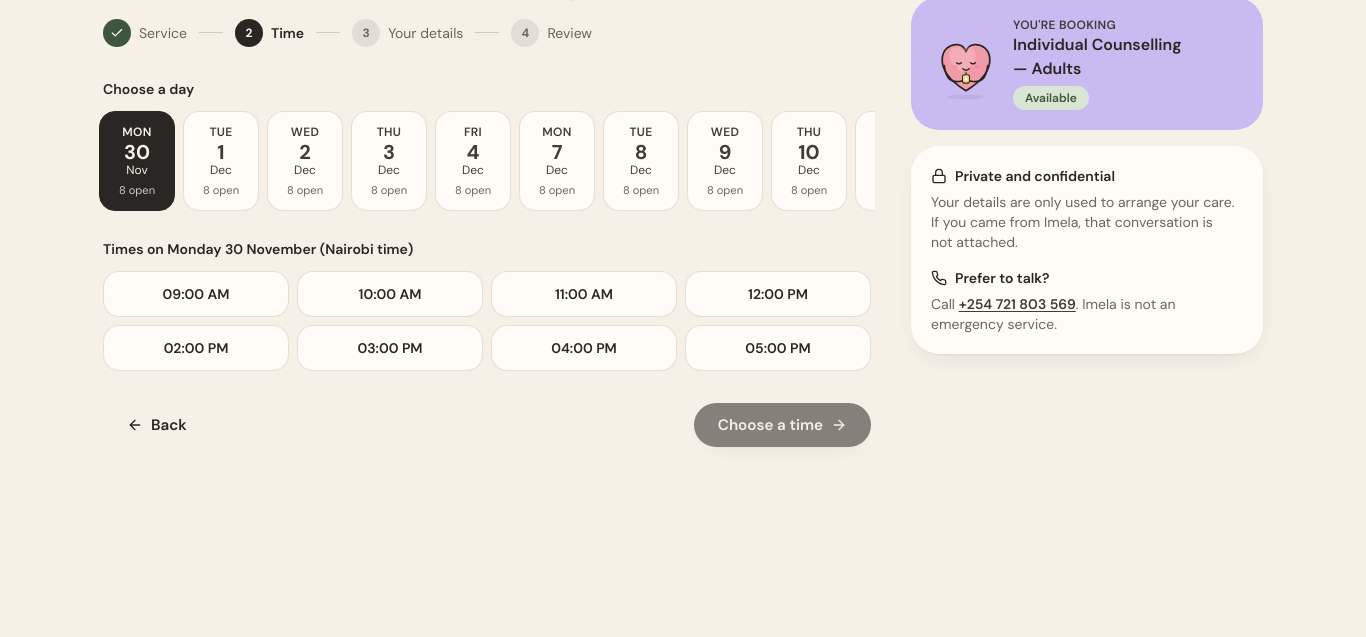
BookPage › blocks submission until details and consent are valid
Click the button "10:00 AM" at (390, 294), box [297,271,483,317]
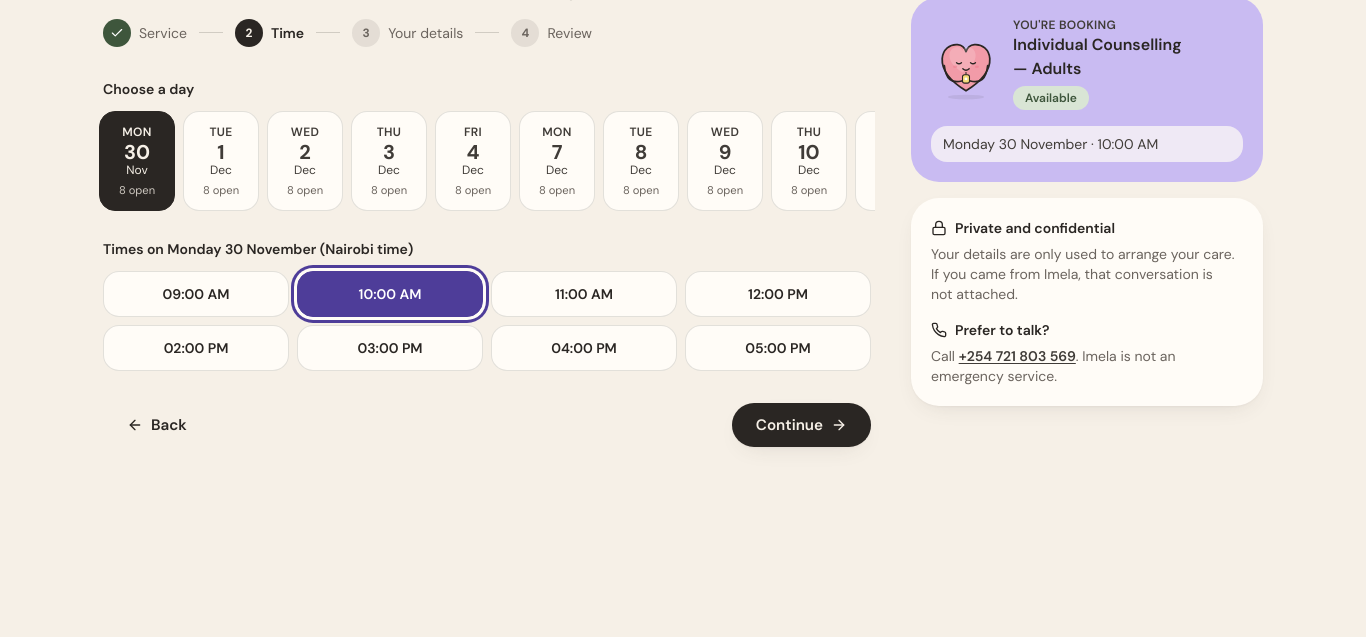
Click the button "Continue" at (801, 425), box [732,403,871,447]
(page scrolled)
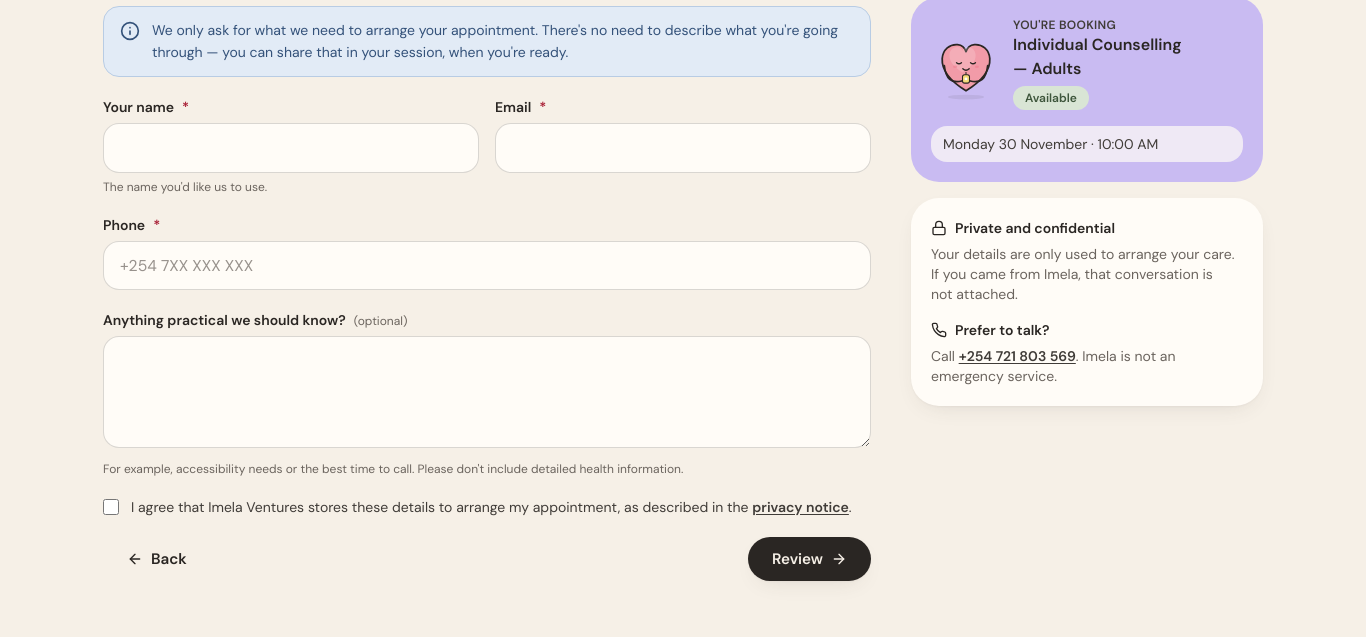
Click the button "Review" at (810, 559), box [748,537,871,581]
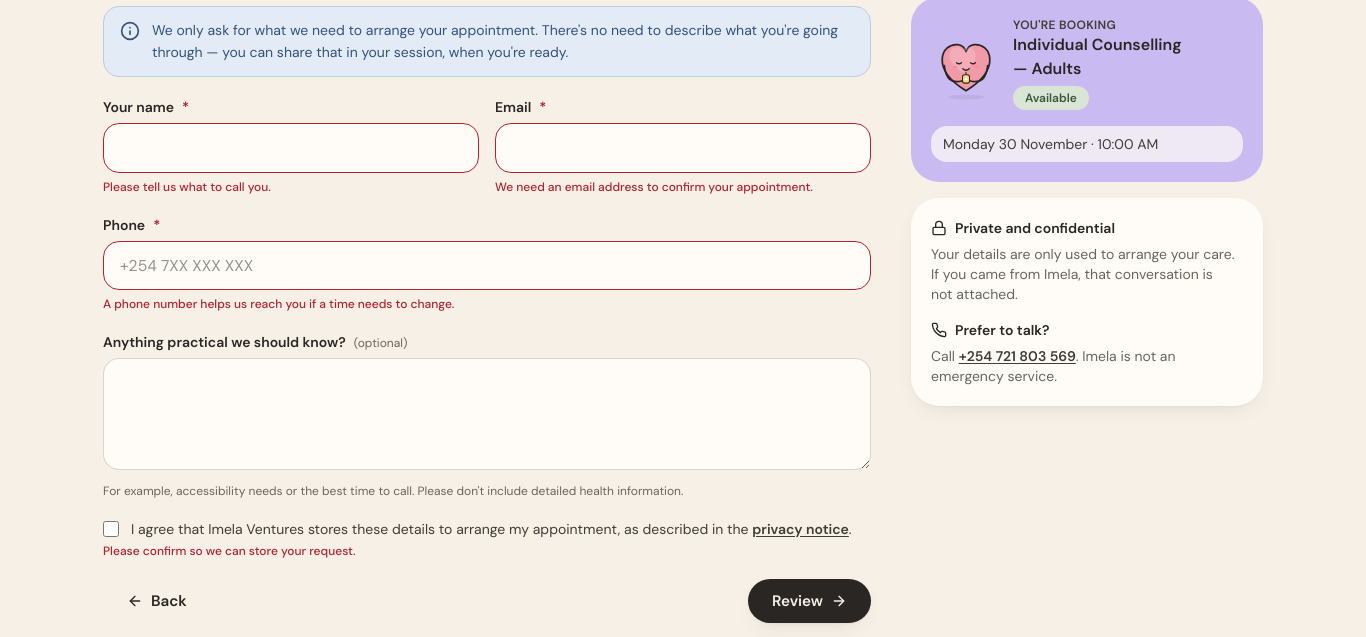
Now the text "Please tell us what to call you." is shown, box [103,178,271,194]
Now the text "Please confirm so we can store your request." is shown, box [103,543,356,559]
